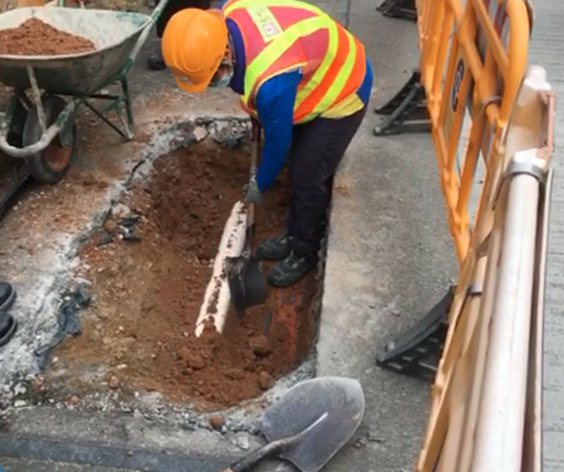Hard Hat: (162, 9, 235, 94)
Person: (162, 4, 372, 289)
Vest: (220, 2, 373, 123)
